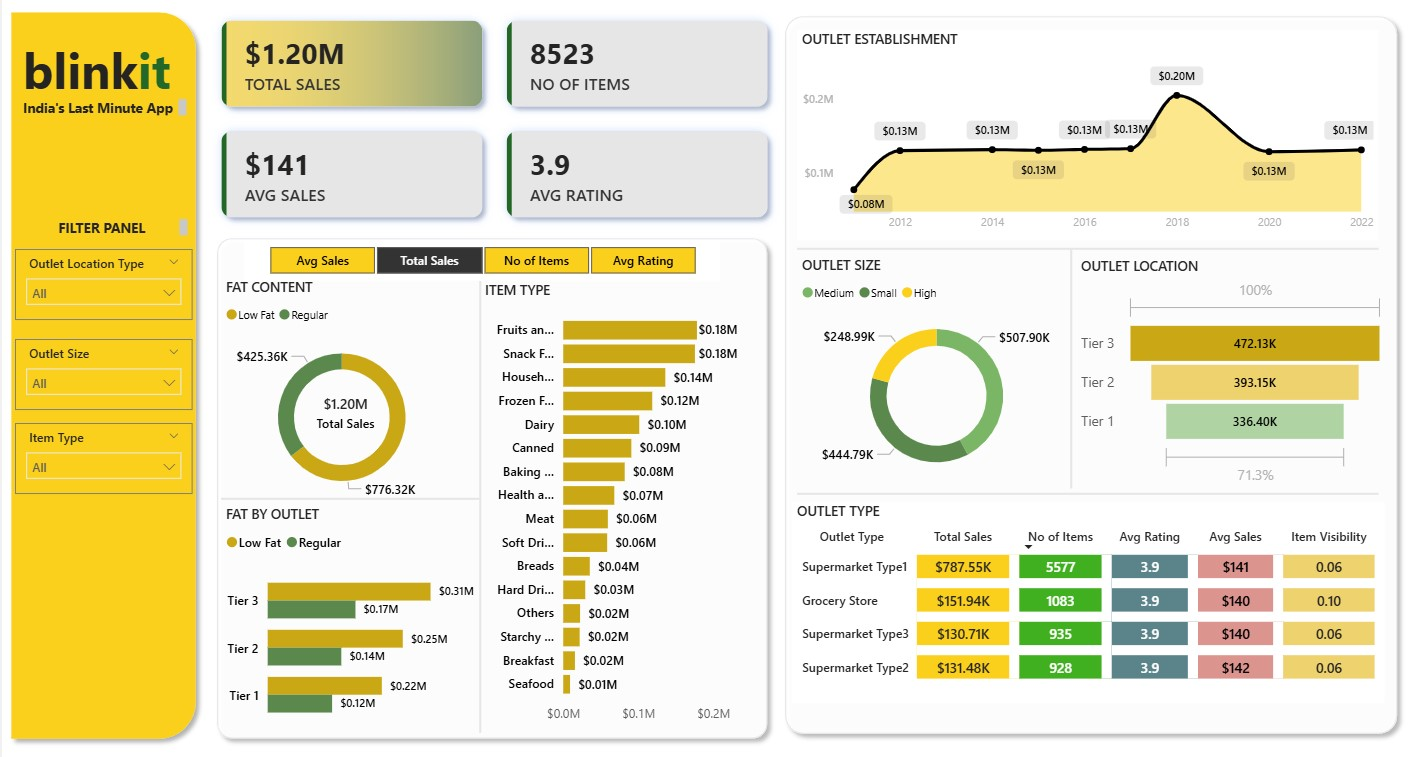

The page's visual inventory and layout, read from the dashboard file:
{"tool":"powerbi","page":{"name":"Page 1","canvas":[1400,800],"ordinal":0},"visuals":[{"type":"shape","box":[0,39,200,734],"z":0},{"type":"textbox","box":[16,67,171,75],"z":1000},{"type":"textbox","box":[16,129,171,26],"z":2000},{"type":"cardVisual","fields":{"Data":["BlinkIT Grocery Data.Total Sales","BlinkIT Grocery Data.No of Items","BlinkIT Grocery Data.Avg Sales","BlinkIT Grocery Data.Avg Rating"]},"box":[187,28,596,253],"z":3000},{"type":"shape","box":[203,262,560,511],"z":4000},{"type":"donutChart","title":"FAT CONTENT","fields":{"Y":["BlinkIT Grocery Data.Total Sales"],"Category":["BlinkIT Grocery Data.Item Fat Content"]},"box":[216,310,238,230],"z":5000},{"type":"slicer","fields":{"Values":["Metrics.Metrics"]},"box":[238,273,469,40],"z":6000},{"type":"cardVisual","fields":{"Data":["BlinkIT Grocery Data.Total Sales"]},"box":[272,409,133,69],"z":7000},{"type":"clusteredBarChart","title":"FAT BY OUTLET","fields":{"Y":["BlinkIT Grocery Data.Total Sales"],"Category":["BlinkIT Grocery Data.Outlet Location Type"],"Series":["BlinkIT Grocery Data.Item Fat Content"]},"box":[216,534,255,230],"z":8000},{"type":"shape","box":[216,508,255,39],"z":9000},{"type":"shape","box":[454,313,34,445],"z":10000},{"type":"barChart","title":"ITEM TYPE","fields":{"Y":["BlinkIT Grocery Data.Total Sales"],"Category":["BlinkIT Grocery Data.Item Type"]},"box":[471,313,276,445],"z":11000},{"type":"shape","box":[763,43,621,725],"z":12000},{"type":"lineChart","title":"OUTLET ESTABLISHMENT","fields":{"Y":["BlinkIT Grocery Data.Total Sales"],"Category":["BlinkIT Grocery Data.Outlet Establishment Year"]},"box":[783,66,573,207],"z":13000},{"type":"shape","box":[783,262,573,39],"z":14000},{"type":"donutChart","title":"OUTLET SIZE","fields":{"Y":["BlinkIT Grocery Data.Total Sales"],"Category":["BlinkIT Grocery Data.Outlet Size"]},"box":[783,289,275,231],"z":15000},{"type":"shape","box":[1036,282,34,236],"z":16000},{"type":"funnel","title":"OUTLET LOCATION","fields":{"Y":["Sum(BlinkIT Grocery Data.Sales)"],"Category":["BlinkIT Grocery Data.Outlet Location Type"]},"box":[1058,290,309,230],"z":17000},{"type":"shape","box":[783,503,573,39],"z":18000},{"type":"pivotTable","title":"OUTLET TYPE","fields":{"Rows":["BlinkIT Grocery Data.Outlet Type"],"Values":["BlinkIT Grocery Data.Total Sales","BlinkIT Grocery Data.No of Items","BlinkIT Grocery Data.Avg Rating","BlinkIT Grocery Data.Avg Sales","Avg(BlinkIT Grocery Data.Item Visibility)"]},"box":[778,531,584,198],"z":19000},{"type":"slicer","fields":{"Values":["BlinkIT Grocery Data.Outlet Location Type"]},"box":[13,282,175,70],"z":20000},{"type":"slicer","fields":{"Values":["BlinkIT Grocery Data.Outlet Size"]},"box":[13,370,175,70],"z":21000},{"type":"slicer","fields":{"Values":["BlinkIT Grocery Data.Item Type"]},"box":[13,453,175,70],"z":22000},{"type":"textbox","box":[17,247,171,26],"z":23000}]}

Visuals, with their boxes on the page's 1400x800 design canvas (x1, y1, x2, y2). These are canvas units, not pixel positions in the 1423x757 screenshot, which may show the page scaled, cropped or inside an application window:
shape: region(0, 39, 200, 773)
textbox: region(16, 67, 187, 142)
textbox: region(16, 129, 187, 155)
cardVisual - BlinkIT Grocery Data.Total Sales x BlinkIT Grocery Data.No of Items: region(187, 28, 783, 281)
shape: region(203, 262, 763, 773)
"FAT CONTENT" donutChart: region(216, 310, 454, 540)
slicer - Metrics.Metrics: region(238, 273, 707, 313)
cardVisual - BlinkIT Grocery Data.Total Sales: region(272, 409, 405, 478)
"FAT BY OUTLET" clusteredBarChart: region(216, 534, 471, 764)
shape: region(216, 508, 471, 547)
shape: region(454, 313, 488, 758)
"ITEM TYPE" barChart: region(471, 313, 747, 758)
shape: region(763, 43, 1384, 768)
"OUTLET ESTABLISHMENT" lineChart: region(783, 66, 1356, 273)
shape: region(783, 262, 1356, 301)
"OUTLET SIZE" donutChart: region(783, 289, 1058, 520)
shape: region(1036, 282, 1070, 518)
"OUTLET LOCATION" funnel: region(1058, 290, 1367, 520)
shape: region(783, 503, 1356, 542)
"OUTLET TYPE" pivotTable: region(778, 531, 1362, 729)
slicer - BlinkIT Grocery Data.Outlet Location Type: region(13, 282, 188, 352)
slicer - BlinkIT Grocery Data.Outlet Size: region(13, 370, 188, 440)
slicer - BlinkIT Grocery Data.Item Type: region(13, 453, 188, 523)
textbox: region(17, 247, 188, 273)
